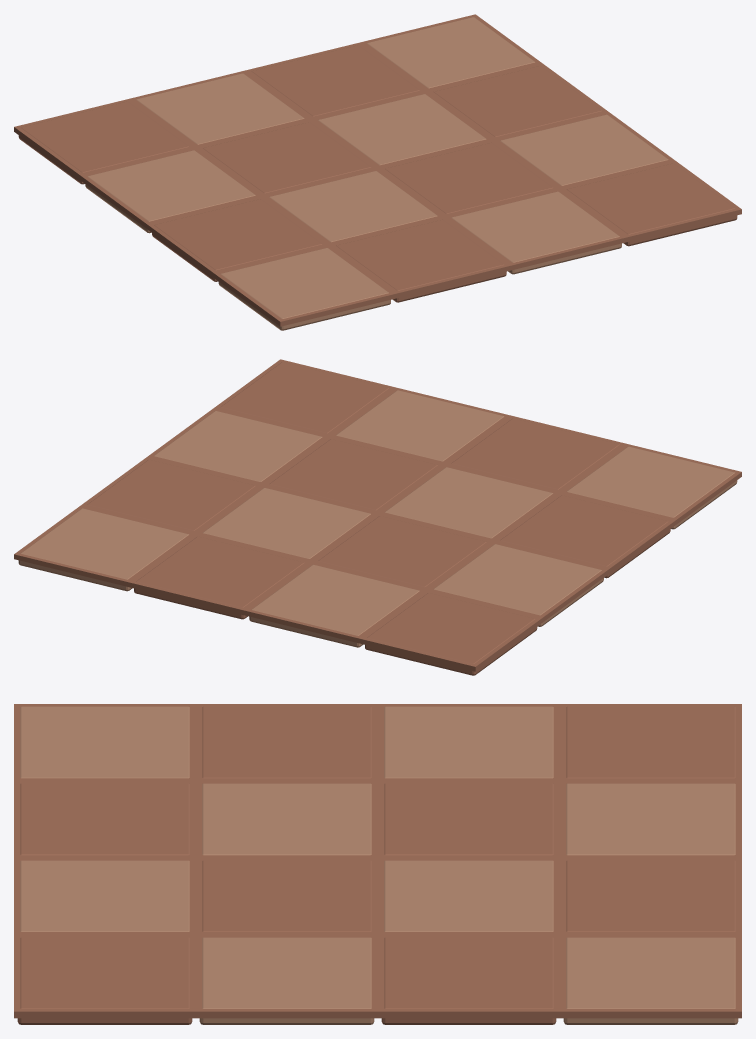
File: Paving.glb
3 views of the same model, one above another, from view 1: azimuth 30°, elevation 25°; view 2: azimuth 150°, elevation 25°; view 3: azimuth 270°, elevation 25° (orthographic). The views are drawn at different scales.
Parts seen in each view (by area): view 1: Paving; view 2: Paving; view 3: Paving.
Boxes of the visible parts, x1,y1,x2,y2 form: Paving: [14, 14, 741, 330]; Paving: [14, 359, 741, 675]; Paving: [14, 704, 741, 1024].
Bounding box in the file's own units: 2 × 0.05 × 2.
